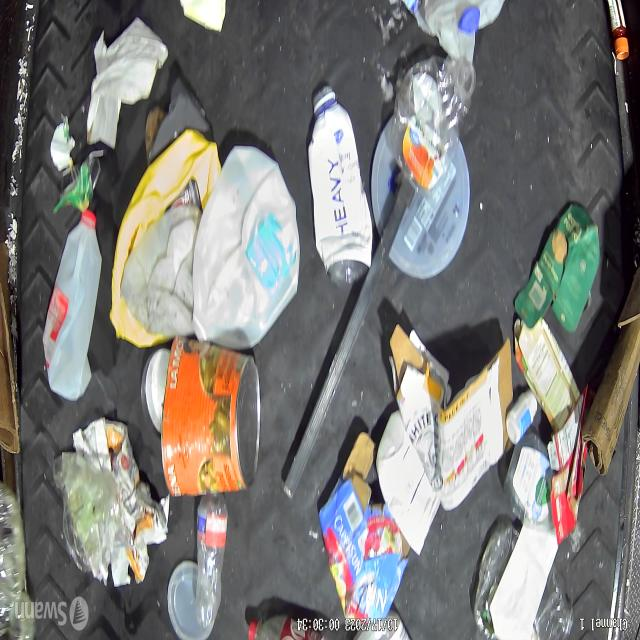can: (162, 336, 260, 497), (140, 345, 167, 432)
milk_jug: (192, 147, 299, 353), (40, 210, 100, 405), (420, 0, 480, 60)
non_white_jug: (109, 128, 222, 345)
plastic_bottle: (388, 58, 476, 197), (474, 522, 574, 640), (194, 493, 227, 632)
